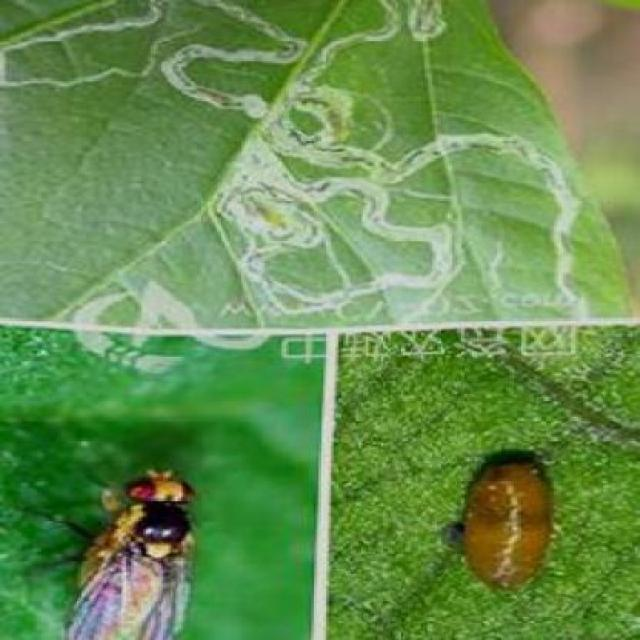whorl-maggot: (454, 442, 558, 596)
